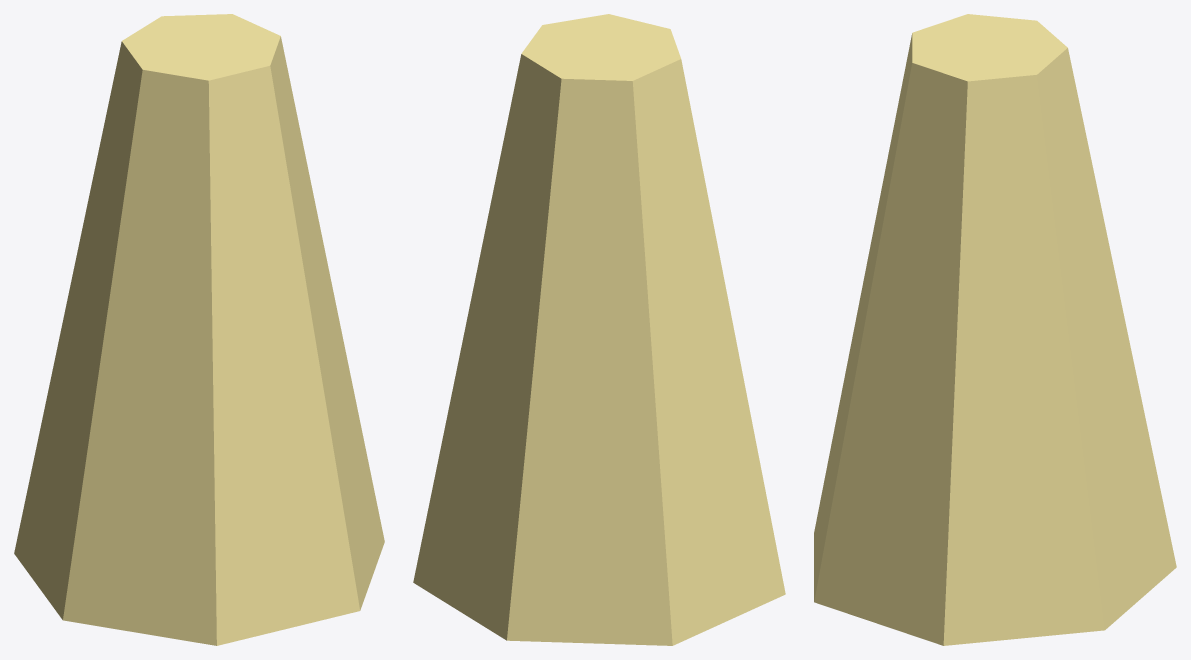
The picture shows the model from 3 angles, left to right: view 1: azimuth 30°, elevation 25°; view 2: azimuth 150°, elevation 25°; view 3: azimuth 270°, elevation 25°; orthographic projection.
Visible parts, largest first — view 1: Cone; view 2: Cone; view 3: Cone.
Boxes of the visible parts, x1,y1,x2,y2 form: Cone: (14,14,384,645); Cone: (413,14,785,645); Cone: (814,14,1176,645).
Bounding box in the file's own units: 2.65 × 4.08 × 2.58.
